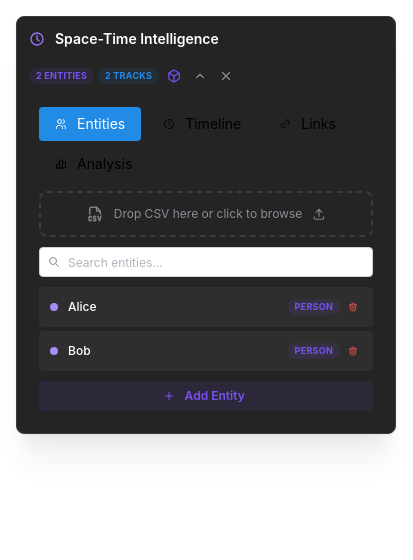
it: Analysis tab buttons › no longer offers Entity Resolution
Click the tab "Analysis".
click(94, 164)  # box x1=39 y1=147 x2=148 y2=181
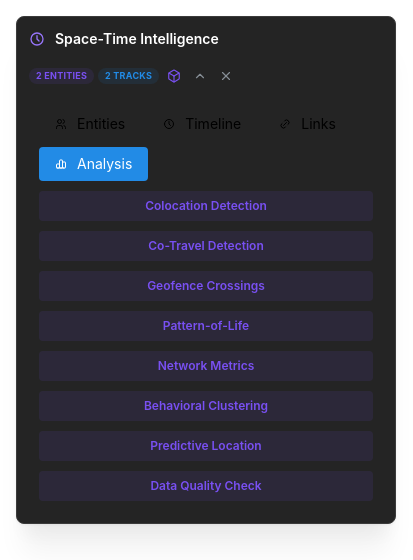
expect the button "Colocation Detection" is shown: met, box x1=39 y1=191 x2=373 y2=221
